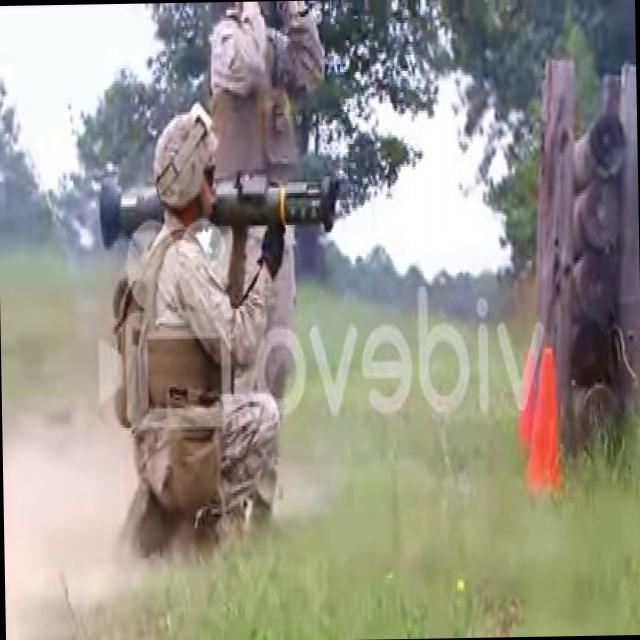rocket: (95, 170, 332, 244)
